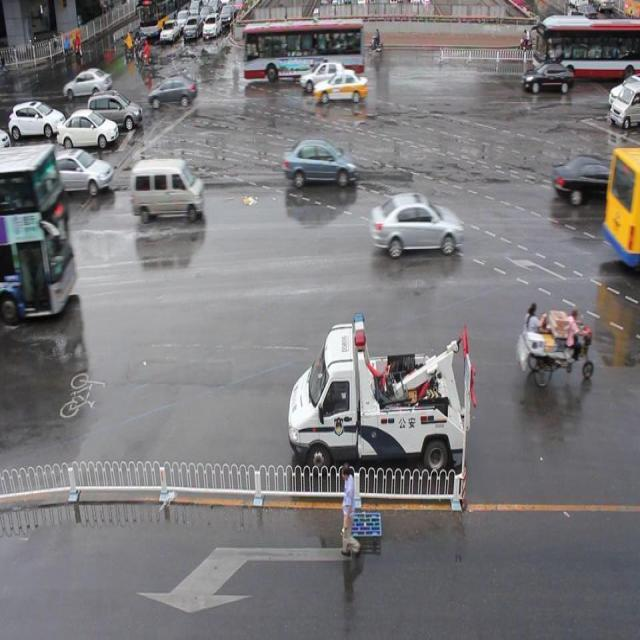BigCar: (0, 148, 76, 326), (238, 23, 367, 77), (536, 18, 640, 77), (136, 1, 164, 42)
car: (285, 326, 467, 459), (371, 187, 468, 267), (132, 160, 214, 228), (282, 143, 359, 197), (56, 149, 113, 210), (551, 158, 613, 208), (312, 72, 370, 119), (59, 110, 120, 154), (520, 59, 579, 101), (91, 91, 146, 128), (9, 107, 62, 142), (147, 77, 198, 109), (612, 82, 639, 134), (62, 66, 114, 92), (202, 12, 225, 44), (162, 15, 182, 49), (183, 14, 203, 46)
